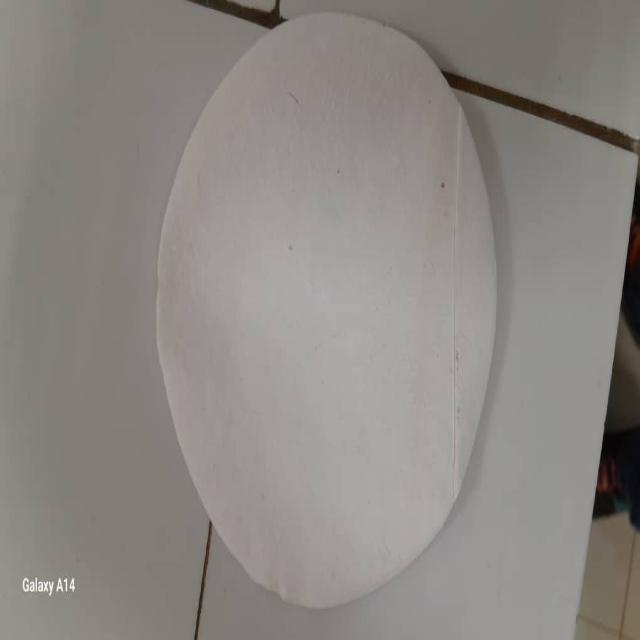Filter paper: (160, 18, 506, 602)
